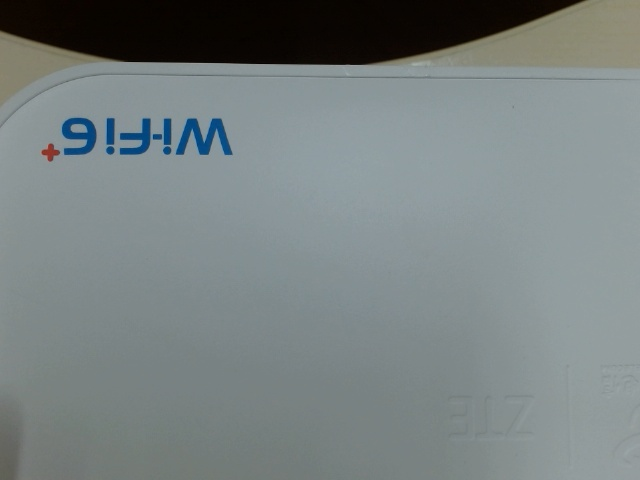AJ_ZTEWIFI6Plus: (28, 105, 239, 173)
